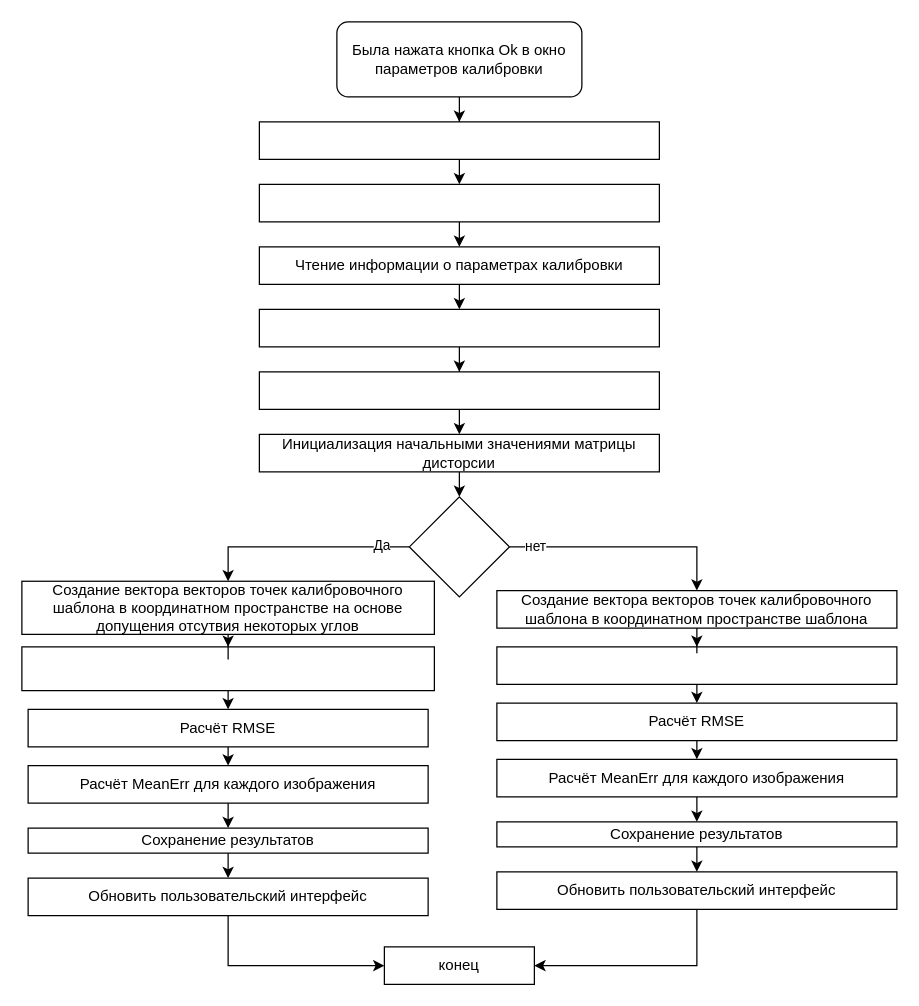
The diagram is 919 pixels wide and 1006 high, and some of its shapes have lost their labels. The centre of each missing label's shape, as x and y in pixels:
Выполнение функции cv::aruco::calibrateCameraCharuco: (227,668)
выполнение функции cv::calibrateCamera: (696,665)
Закрыть окно параметров калибровки: (458,140)
Инициализация начальными значениями матрицы камеры: (458,390)
Парсинг калибровочных флагов: (458,327)
Чтение информации об изображениях: (458,202)
шаблон = ChArUco: (458,546)
